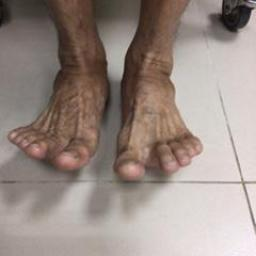Front View -Both Feet-: (6, 5, 214, 205)
